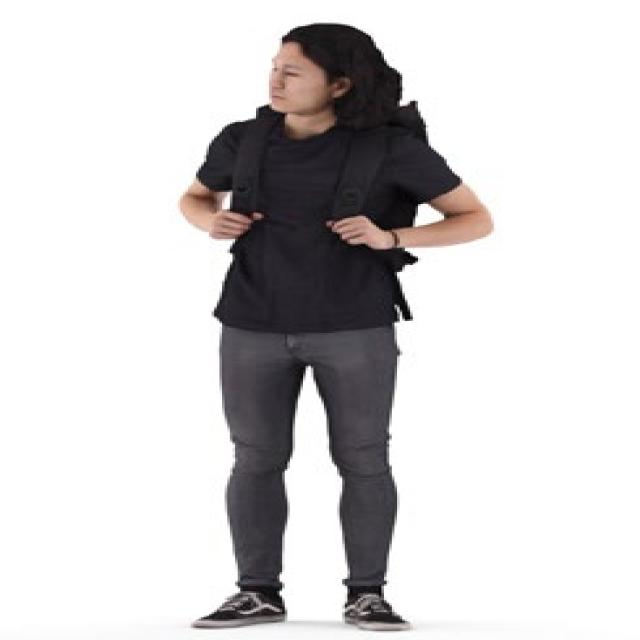standing: (174, 18, 502, 632)
